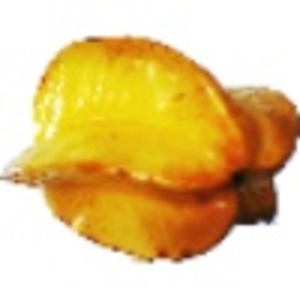carambola: (1, 33, 300, 266)
